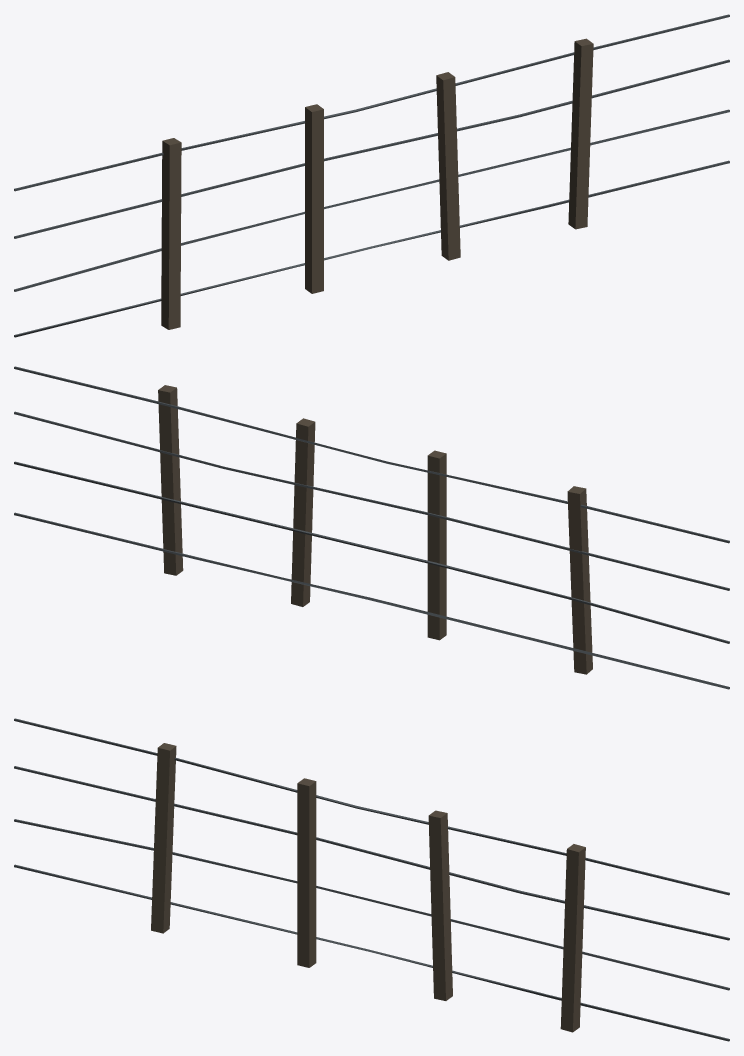
The model's file is farm-wire-fence.glb.
The picture shows the model from 3 angles, top to bottom: view 1: azimuth 30°, elevation 25°; view 2: azimuth 150°, elevation 25°; view 3: azimuth 330°, elevation 25°; orthographic projection.
Visible parts, largest first — view 1: farm-wire-fence; view 2: farm-wire-fence; view 3: farm-wire-fence.
Part boxes in pixels (x1=…): farm-wire-fence: x1=14, y1=14, x2=729, y2=337; farm-wire-fence: x1=14, y1=366, x2=729, y2=689; farm-wire-fence: x1=14, y1=718, x2=729, y2=1041.
Bounding box in the file's own units: 5 × 1.22 × 0.1232.
Materials: 1 (1 with a texture image).
